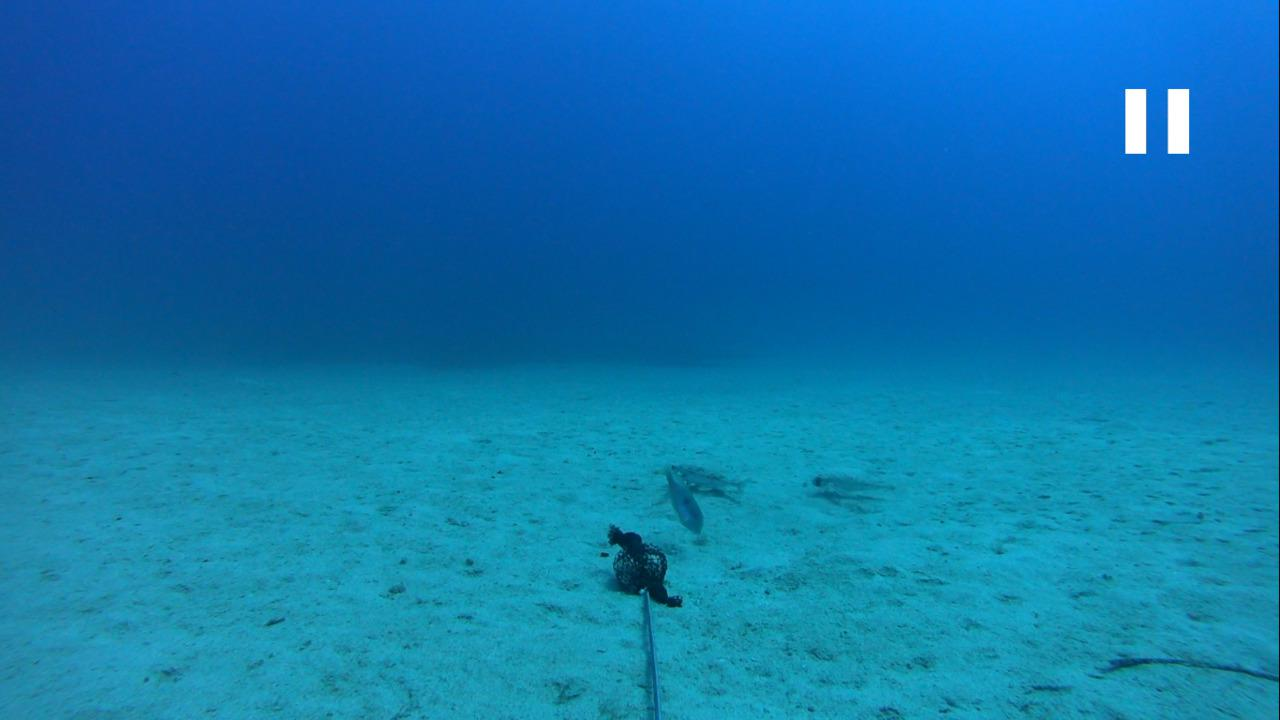bothus: (1102, 501, 1210, 523)
dactylopterus: (791, 465, 906, 502), (650, 456, 743, 499)
raor: (658, 467, 711, 543)
